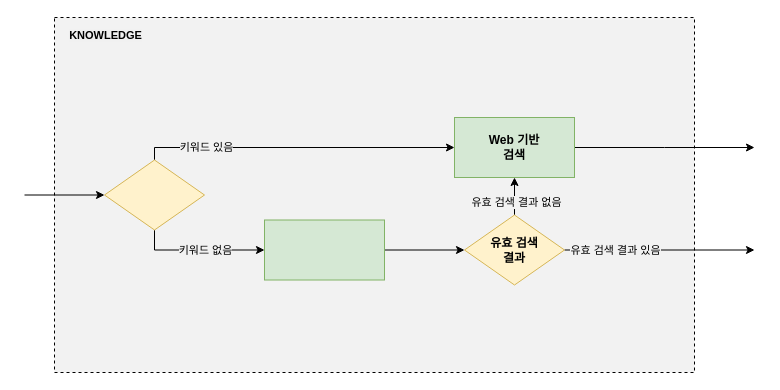
This 780x390 diagram has some shape labels left out. Here are the shapes that lost their labels. From the top down, the centre of each, then its label:
point (154, 194): 웹 검색 키워드 감지
point (324, 249): ChromaDB 유사도 기반 검색
